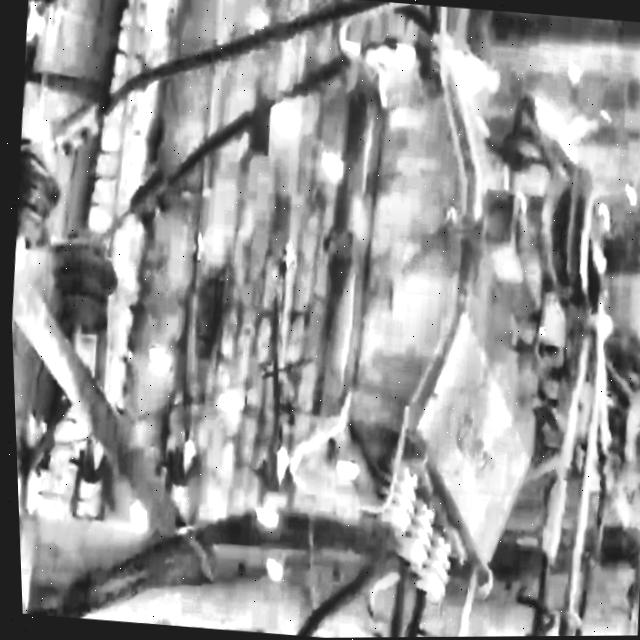Fire: (517, 76, 602, 180), (436, 16, 506, 122)
